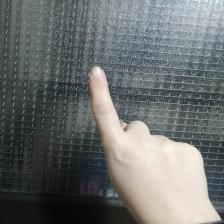one: (85, 62, 210, 216)
